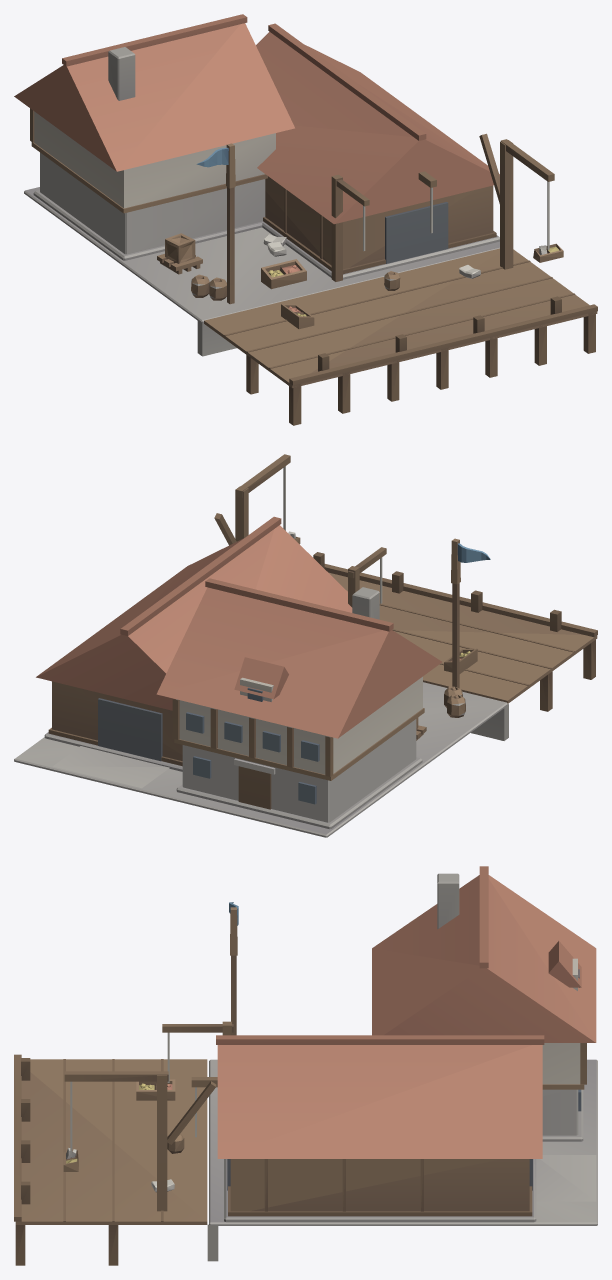
The model's file is trading_post.l4.glb.
3 views of the same model, one above another, from view 1: azimuth 30°, elevation 25°; view 2: azimuth 150°, elevation 25°; view 3: azimuth 270°, elevation 25° (orthographic). The views are drawn at different scales.
Visible parts, largest first — view 1: trading_post; view 2: trading_post; view 3: trading_post.
Boxes of the visible parts, x1=… form: trading_post: x1=14, y1=14, x2=597, y2=425; trading_post: x1=14, y1=454, x2=597, y2=837; trading_post: x1=14, y1=866, x2=597, y2=1265.
Bounding box in the file's own units: 6.25 × 4.1 × 8.98.
